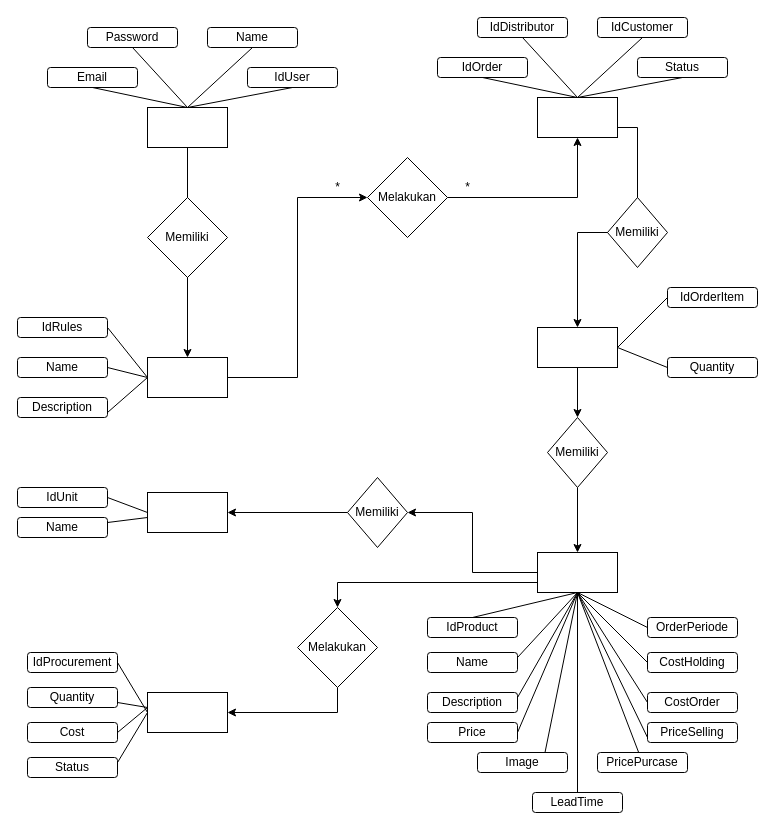
Image size: 775x830. Some labels were removed from this diagram. The centre of each missing label's shape, as x and y in pixels:
"Oder" goes at pixel 577 117.
"OrderItem" goes at pixel 577 347.
"Procurement" goes at pixel 187 712.
"Product" goes at pixel 577 572.
"Rules" goes at pixel 187 377.
"Units" goes at pixel 187 512.
"user" goes at pixel 187 127.
